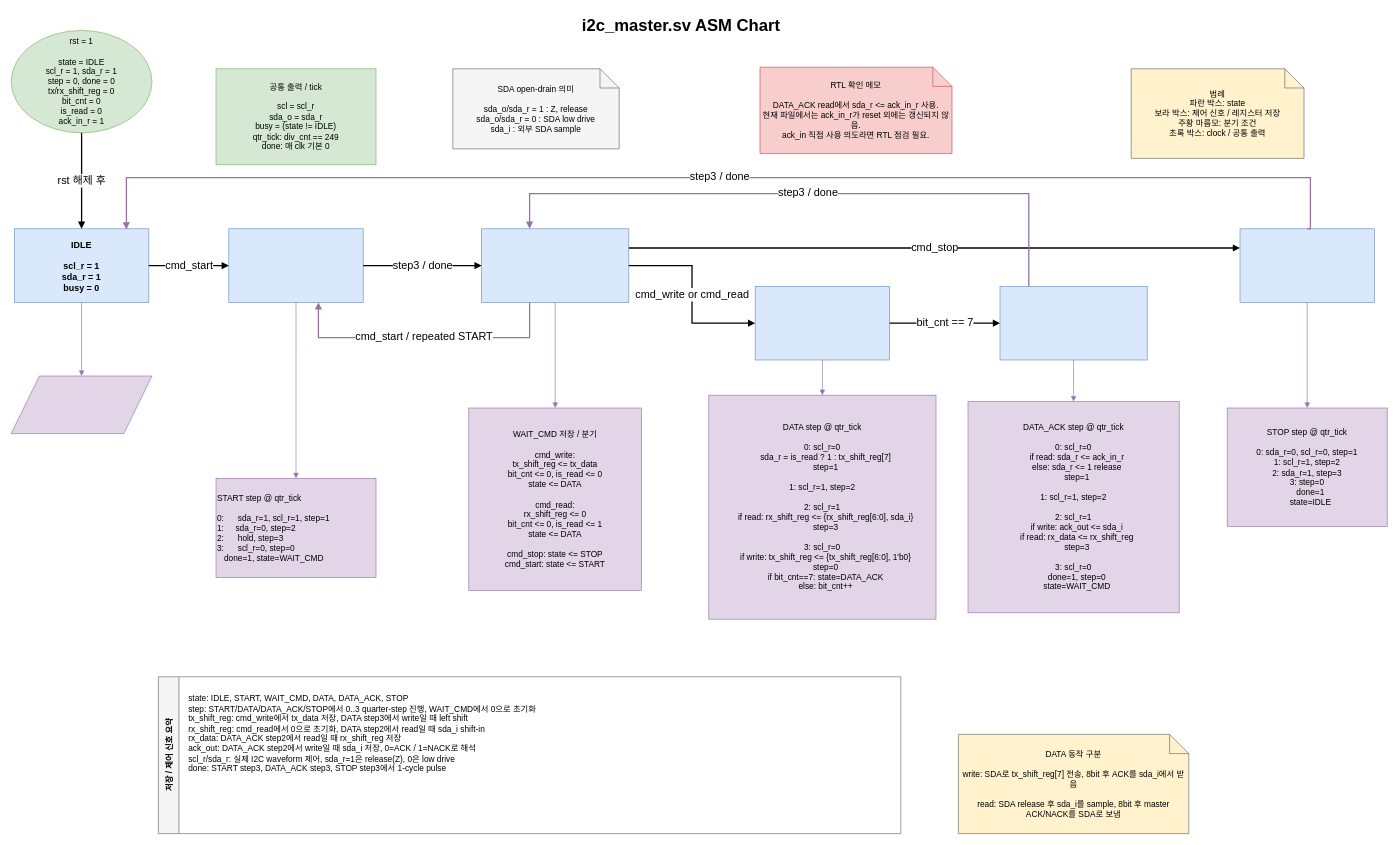
The diagram is 1398 pixels wide and 845 high, and some of its shapes have lost their labels. The centre of each missing label's shape, as x and y in pixels:
"cmd_start = 1 state <= START step <= 0" goes at point 81,404.
"DATA 8-bit transfer qtr_tick 4-step 반복 bit_cnt 0..7" goes at point 822,323.
"DATA_ACK ACK/NACK phase write: slave ACK sample read: master ACK drive" goes at point 1073,323.
"START start condition 생성 qtr_tick마다 step 진행" goes at point 295,265.
"STOP stop condition 생성 qtr_tick마다 step 진행" goes at point 1306,265.
"WAIT_CMD step = 0 host command 대기 우선순위: write > read > stop > start" goes at point 555,265.
